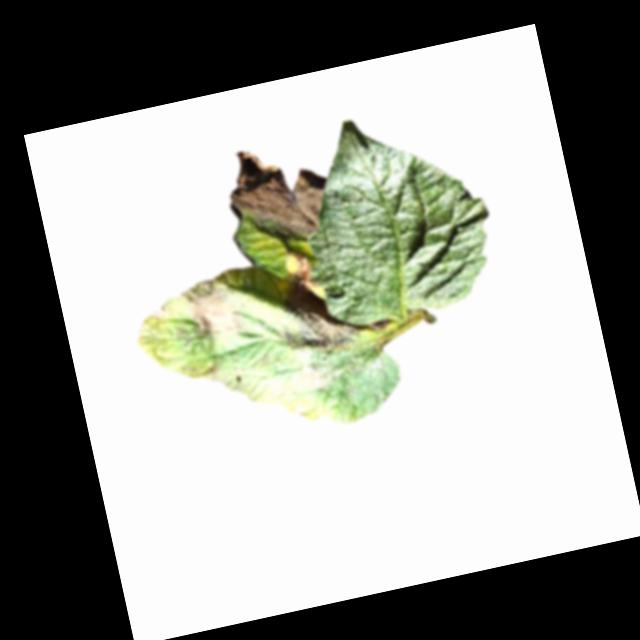Late_blight: (219, 133, 336, 255), (273, 276, 363, 363), (179, 271, 247, 342), (288, 353, 351, 398), (283, 244, 319, 291), (150, 299, 174, 325), (286, 399, 309, 419)
healthy: (285, 92, 503, 330)
